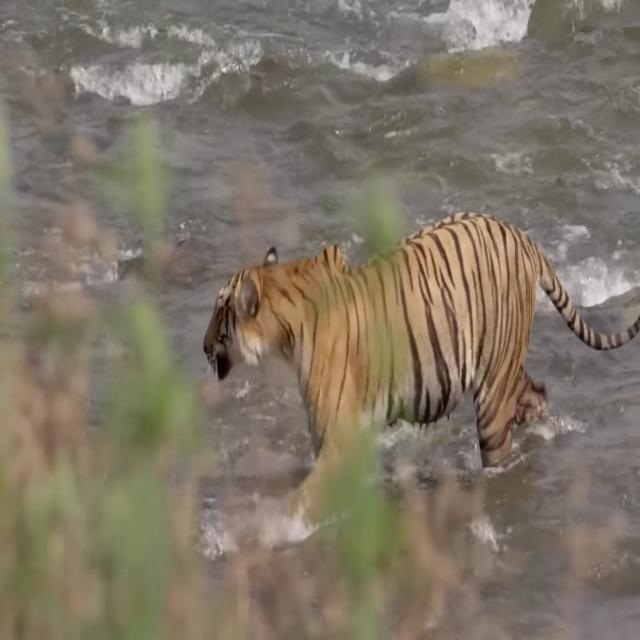tiger: (202, 210, 640, 518)
